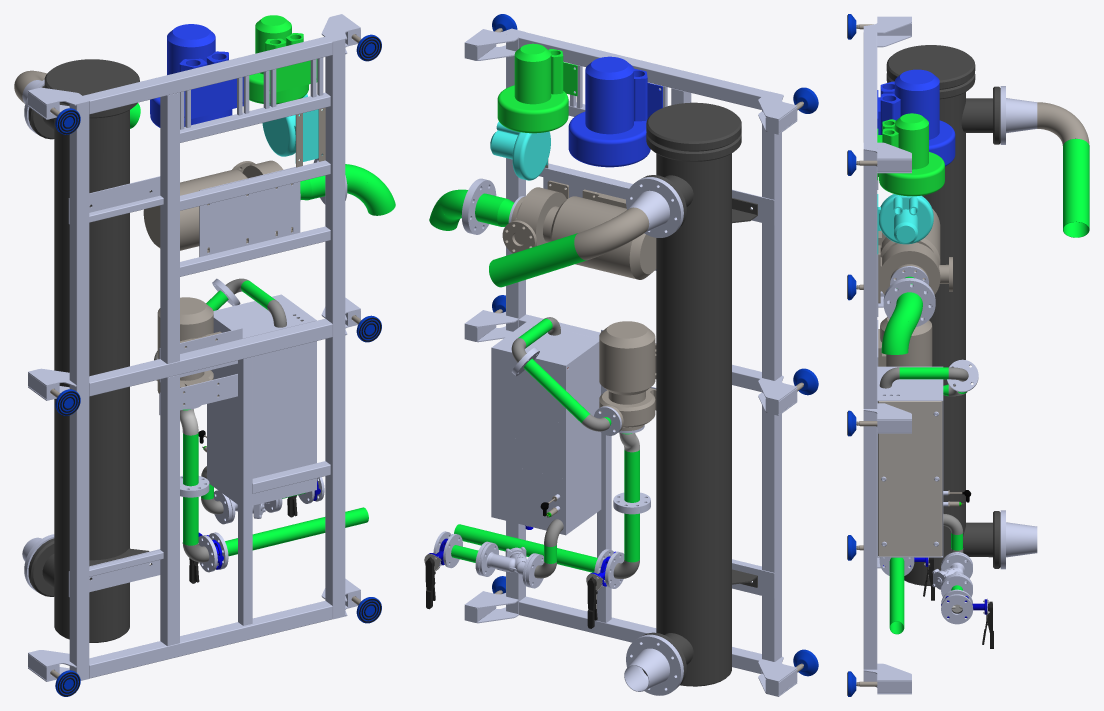
Rendered from stantion.glb.
3 renders of one model, left to right at view 1: azimuth 30°, elevation 25°; view 2: azimuth 150°, elevation 25°; view 3: azimuth 270°, elevation 25°, orthographic. The views are drawn at different scales.
Visible parts, largest first — view 1: 65.04.01.03 ÃÃ®Ã«Ã®Ã¤Ã¨Ã«Ã¼ÃÃ Ã¿ Ã¬Ã Ã¸Ã¨ÃÃ (Ã±Ã¨Ã£Ã Ã°Ã )00, 65.04.06.01.02 Ã¯Ã°Ã®Ã´Ã¨Ã«Ã¼ 80 001, 65.04.06.01.02 Ã¯Ã°Ã®Ã´Ã¨Ã«Ã¼ 80 1, 65.04.10.01.04 ÃÃ¨Ã¦ÃÃ¿Ã¿ ÃªÃ°Ã»Ã¸ÃªÃ, 65.04.06.01.08 ÃÃ«Ã Ã±Ã²Ã¨ÃÃ» Ã¯Ã®Ã¤ ÃÃ Ã±Ã®Ã± 18ÃªÃ, 65.04.06.01.10 Ã¯Ã°Ã®Ã´Ã¨Ã«Ã¼ 80 1, 65.04.06.01.10 Ã¯Ã°Ã®Ã´Ã¨Ã«Ã¼ 80 001, 65.04.06.01.02 Ã¯Ã°Ã®Ã´Ã¨Ã«Ã¼ 80 002, 65.04.06.01.02 Ã¯Ã°Ã®Ã´Ã¨Ã«Ã¼ 80 003, 65.04.06.01.02 Ã¯Ã°Ã®Ã´Ã¨Ã«Ã¼ 80 2, 65.04.06.01.06 Ã¯Ã°Ã®Ã´Ã¨Ã«Ã¼ 60, 65.04.10.01.01 ÃÃ Ã¤ÃÃ¿Ã¿ ÃªÃ°Ã»Ã¸ÃªÃ (+27 smaller); view 2: 65.04.01.03 ÃÃ®Ã«Ã®Ã¤Ã¨Ã«Ã¼ÃÃ Ã¿ Ã¬Ã Ã¸Ã¨ÃÃ (Ã±Ã¨Ã£Ã Ã°Ã )00 (×2), 65.04.10.01.05 ÃÃ¥Ã°ÃµÃÃ¿Ã¿ ÃªÃ°Ã»Ã¸ÃªÃ, 65.04.06.01.02 Ã¯Ã°Ã®Ã´Ã¨Ã«Ã¼ 80 1, 65.04.01.01 ÃÃ Ã±Ã®Ã± 22kW003, 65.04.01.02 ÃÃ Ã±Ã®Ã± 5.5kW002, 65.04.10.01.01 ÃÃ Ã¤ÃÃ¿Ã¿ ÃªÃ°Ã»Ã¸ÃªÃ, 65.04.06.01.02 Ã¯Ã°Ã®Ã´Ã¨Ã«Ã¼ 80 002, 65.04.01.03 ÃÃ®Ã«Ã®Ã¤Ã¨Ã«Ã¼ÃÃ Ã¿ Ã¬Ã Ã¸Ã¨ÃÃ (Ã±Ã¨Ã£Ã Ã°Ã ), ÃÃ®Ã§Ã¤Ã³ÃµÃ®Ã¤Ã³Ã¢ÃªÃ EVL 194.18 3ph005, 65.04.06.01.02 Ã¯Ã°Ã®Ã´Ã¨Ã«Ã¼ 80 2, ÃÃ®Ã§Ã¤Ã³ÃµÃ®Ã¤Ã³Ã¢ÃªÃ EVL 194.18 3ph003, 65.04.06.01.02 Ã¯Ã°Ã®Ã´Ã¨Ã«Ã¼ 80 001 (+26 smaller); view 3: 65.04.01.03 ÃÃ®Ã«Ã®Ã¤Ã¨Ã«Ã¼ÃÃ Ã¿ Ã¬Ã Ã¸Ã¨ÃÃ (Ã±Ã¨Ã£Ã Ã°Ã )00 (×2), 65.04.10.01.08 ÃÃ°Ã»Ã¸ÃªÃ Ã£Ã¨Ã¡ÃªÃ _00, 65.04.06.01.02 Ã¯Ã°Ã®Ã´Ã¨Ã«Ã¼ 80 001, 65.04.01.01 ÃÃ Ã±Ã®Ã± 22kW003, 65.04.01.03 ÃÃ®Ã«Ã®Ã¤Ã¨Ã«Ã¼ÃÃ Ã¿ Ã¬Ã Ã¸Ã¨ÃÃ (Ã±Ã¨Ã£Ã Ã°Ã ), 65.04.02.08 154 Ã²Ã°Ã³Ã¡Ã, ÃÃ®Ã§Ã¤Ã³ÃµÃ®Ã¤Ã³Ã¢ÃªÃ EVL 194.18 3ph005, ÃÃ®Ã§Ã¤Ã³ÃµÃ®Ã¤Ã³Ã¢ÃªÃ EVL 117.22 3ph003, 65.04.06.01.02 Ã¯Ã°Ã®Ã´Ã¨Ã«Ã¼ 80 002, 65.04.10.01.03 ÃÃ®ÃªÃ®Ã¢Ã Ã¿ ÃªÃ°Ã»Ã¸ÃªÃ Ã± Ã¢ÃµÃ®Ã¤Ã®Ã¬, ÃÃ®Ã§Ã¤Ã³ÃµÃ®Ã¤Ã³Ã¢ÃªÃ EVL 117.22 3ph005, 65.04.01.02 ÃÃ Ã±Ã®Ã± 5.5kW002 (+25 smaller).
Boxes of the visible parts, left/top/right/bottom form: 65.04.01.03 ÃÃ®Ã«Ã®Ã¤Ã¨Ã«Ã¼ÃÃ Ã¿ Ã¬Ã Ã¸Ã¨ÃÃ (Ã±Ã¨Ã£Ã Ã°Ã )00: left=28, top=85, right=150, bottom=642; 65.04.06.01.02 Ã¯Ã°Ã®Ã´Ã¨Ã«Ã¼ 80 001: left=325, top=39, right=345, bottom=618; 65.04.06.01.02 Ã¯Ã°Ã®Ã´Ã¨Ã«Ã¼ 80 1: left=69, top=102, right=89, bottom=680; 65.04.10.01.04 ÃÃ¨Ã¦ÃÃ¿Ã¿ ÃªÃ°Ã»Ã¸ÃªÃ: left=252, top=341, right=316, bottom=504; 65.04.06.01.08 ÃÃ«Ã Ã±Ã²Ã¨ÃÃ» Ã¯Ã®Ã¤ ÃÃ Ã±Ã®Ã± 18ÃªÃ: left=199, top=167, right=300, bottom=256; 65.04.06.01.10 Ã¯Ã°Ã®Ã´Ã¨Ã«Ã¼ 80 1: left=160, top=374, right=179, bottom=646; 65.04.06.01.10 Ã¯Ã°Ã®Ã´Ã¨Ã«Ã¼ 80 001: left=160, top=92, right=179, bottom=363; 65.04.06.01.02 Ã¯Ã°Ã®Ã´Ã¨Ã«Ã¼ 80 002: left=83, top=36, right=332, bottom=114; 65.04.06.01.02 Ã¯Ã°Ã®Ã´Ã¨Ã«Ã¼ 80 003: left=89, top=318, right=332, bottom=396; 65.04.06.01.02 Ã¯Ã°Ã®Ã´Ã¨Ã«Ã¼ 80 2: left=89, top=601, right=332, bottom=678; 65.04.06.01.06 Ã¯Ã°Ã®Ã´Ã¨Ã«Ã¼ 60: left=238, top=357, right=252, bottom=625; 65.04.10.01.01 ÃÃ Ã¤ÃÃ¿Ã¿ ÃªÃ°Ã»Ã¸ÃªÃ: left=207, top=318, right=237, bottom=503; 65.04.01.03 ÃÃ®Ã«Ã®Ã¤Ã¨Ã«Ã¼ÃÃ Ã¿ Ã¬Ã Ã¸Ã¨ÃÃ (Ã±Ã¨Ã£Ã Ã°Ã )00 (×2): left=642, top=133, right=757, bottom=686; 65.04.10.01.05 ÃÃ¥Ã°ÃµÃÃ¿Ã¿ ÃªÃ°Ã»Ã¸ÃªÃ: left=491, top=347, right=566, bottom=535; 65.04.06.01.02 Ã¯Ã°Ã®Ã´Ã¨Ã«Ã¼ 80 1: left=762, top=109, right=781, bottom=673; 65.04.01.01 ÃÃ Ã±Ã®Ã± 22kW003: left=502, top=180, right=656, bottom=279; 65.04.01.02 ÃÃ Ã±Ã®Ã± 5.5kW002: left=599, top=321, right=656, bottom=431; 65.04.10.01.01 ÃÃ Ã¤ÃÃ¿Ã¿ ÃªÃ°Ã»Ã¸ÃªÃ: left=566, top=342, right=600, bottom=533; 65.04.06.01.02 Ã¯Ã°Ã®Ã´Ã¨Ã«Ã¼ 80 002: left=519, top=32, right=768, bottom=109; 65.04.01.03 ÃÃ®Ã«Ã®Ã¤Ã¨Ã«Ã¼ÃÃ Ã¿ Ã¬Ã Ã¸Ã¨ÃÃ (Ã±Ã¨Ã£Ã Ã°Ã ): left=646, top=102, right=741, bottom=151; ÃÃ®Ã§Ã¤Ã³ÃµÃ®Ã¤Ã³Ã¢ÃªÃ EVL 194.18 3ph005: left=585, top=56, right=633, bottom=134; 65.04.06.01.02 Ã¯Ã°Ã®Ã´Ã¨Ã«Ã¼ 80 2: left=519, top=596, right=761, bottom=673; ÃÃ®Ã§Ã¤Ã³ÃµÃ®Ã¤Ã³Ã¢ÃªÃ EVL 194.18 3ph003: left=568, top=111, right=650, bottom=167; 65.04.06.01.02 Ã¯Ã°Ã®Ã´Ã¨Ã«Ã¼ 80 001: left=506, top=39, right=525, bottom=614; 65.04.01.03 ÃÃ®Ã«Ã®Ã¤Ã¨Ã«Ã¼ÃÃ Ã¿ Ã¬Ã Ã¸Ã¨ÃÃ (Ã±Ã¨Ã£Ã Ã°Ã )00 (×2): left=878, top=73, right=1000, bottom=586; 65.04.10.01.08 ÃÃ°Ã»Ã¸ÃªÃ Ã£Ã¨Ã¡ÃªÃ _00: left=878, top=401, right=942, bottom=556; 65.04.06.01.02 Ã¯Ã°Ã®Ã´Ã¨Ã«Ã¼ 80 001: left=863, top=150, right=877, bottom=681; 65.04.01.01 ÃÃ Ã±Ã®Ã± 22kW003: left=878, top=209, right=952, bottom=303; 65.04.01.03 ÃÃ®Ã«Ã®Ã¤Ã¨Ã«Ã¼ÃÃ Ã¿ Ã¬Ã Ã¸Ã¨ÃÃ (Ã±Ã¨Ã£Ã Ã°Ã ): left=886, top=45, right=975, bottom=89; 65.04.02.08 154 Ã²Ã°Ã³Ã¡Ã: left=1063, top=138, right=1089, bottom=237; ÃÃ®Ã§Ã¤Ã³ÃµÃ®Ã¤Ã³Ã¢ÃªÃ EVL 194.18 3ph005: left=894, top=69, right=939, bottom=139; ÃÃ®Ã§Ã¤Ã³ÃµÃ®Ã¤Ã³Ã¢ÃªÃ EVL 117.22 3ph003: left=879, top=152, right=944, bottom=196; 65.04.06.01.02 Ã¯Ã°Ã®Ã´Ã¨Ã«Ã¼ 80 002: left=863, top=32, right=877, bottom=142; 65.04.10.01.03 ÃÃ®ÃªÃ®Ã¢Ã Ã¿ ÃªÃ°Ã»Ã¸ÃªÃ Ã± Ã¢ÃµÃ®Ã¤Ã®Ã¬: left=877, top=366, right=942, bottom=400; ÃÃ®Ã§Ã¤Ã³ÃµÃ®Ã¤Ã³Ã¢ÃªÃ EVL 117.22 3ph005: left=895, top=113, right=928, bottom=169; 65.04.01.02 ÃÃ Ã±Ã®Ã± 5.5kW002: left=880, top=317, right=932, bottom=366.
Size of the model in its own units: 2.24 by 3.53 by 1.4.
